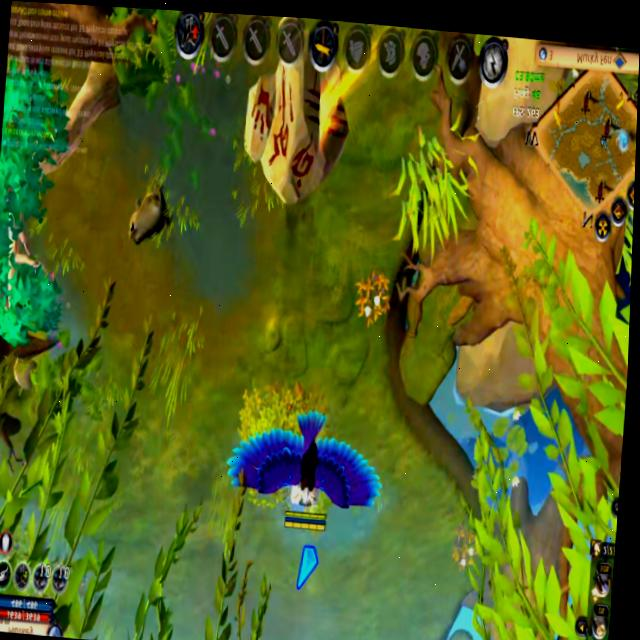hide: (345, 257, 399, 335), (449, 519, 480, 574)
ore: (120, 168, 180, 252)
red: (213, 381, 391, 543)
wisp caged: (0, 23, 135, 354)
